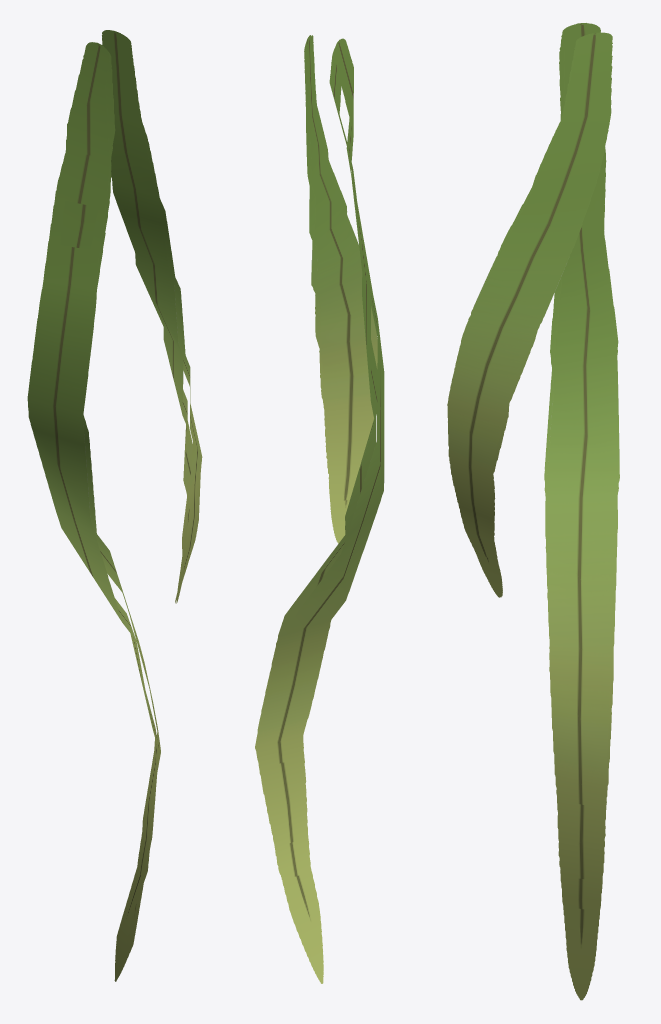
File: Seaweed_Base_02.fbx
3 views of the same model, side by side, from view 1: azimuth 30°, elevation 25°; view 2: azimuth 150°, elevation 25°; view 3: azimuth 270°, elevation 25° (orthographic). The views are drawn at different scales.
Visible parts, largest first — view 1: pPlane3, pPlane6; view 2: pPlane3, pPlane6; view 3: pPlane3, pPlane6.
Boxes of the visible parts, bbox=[...] form: pPlane3: bbox=[27, 42, 160, 981]; pPlane6: bbox=[102, 30, 202, 603]; pPlane3: bbox=[255, 38, 384, 983]; pPlane6: bbox=[304, 35, 377, 543]; pPlane3: bbox=[544, 23, 619, 1000]; pPlane6: bbox=[447, 32, 612, 597].
Bounding box in the file's own units: 0.6939 × 4.47 × 0.8951.
1 material, 1 textured.
